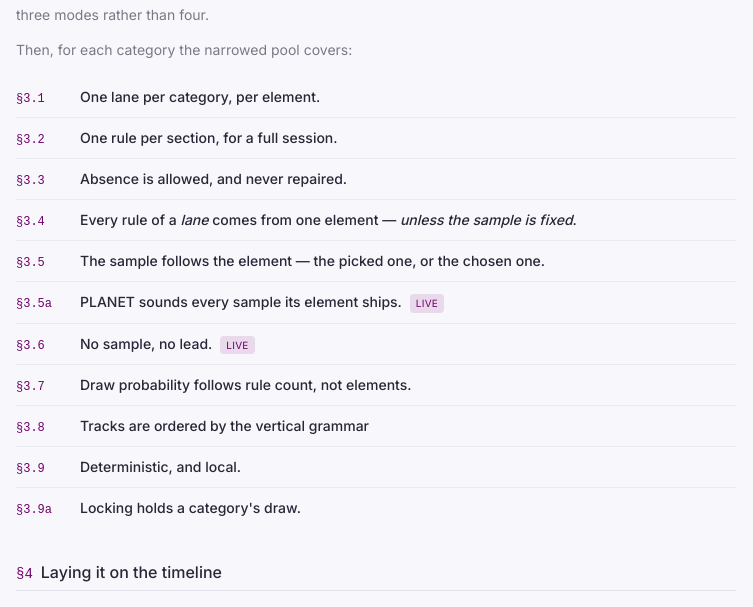
Test: RulebookPage — live evidence › shows the coverage of the real library under §3.6, flagging what cannot sound
The width and height of the screenshot is (753, 607).
(page scrolled)
Click the button "§3.6 No sample, no lead. live".
click(146, 343)  # box [16,324,736,364]
(page scrolled)
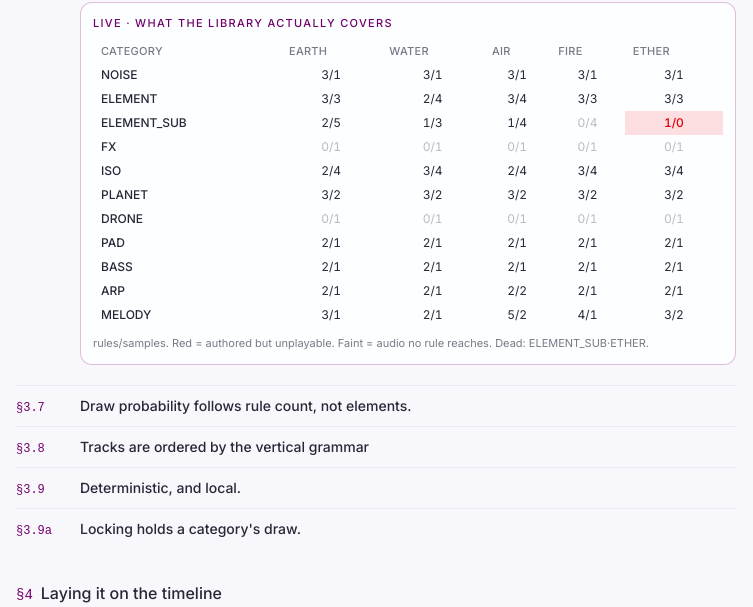
Now the heading "Live · what the library actually covers" is shown, box [93,16,393,30]
Now the text "Dead: ELEMENT_SUB·ETHER" is shown, box [93,336,649,350]
